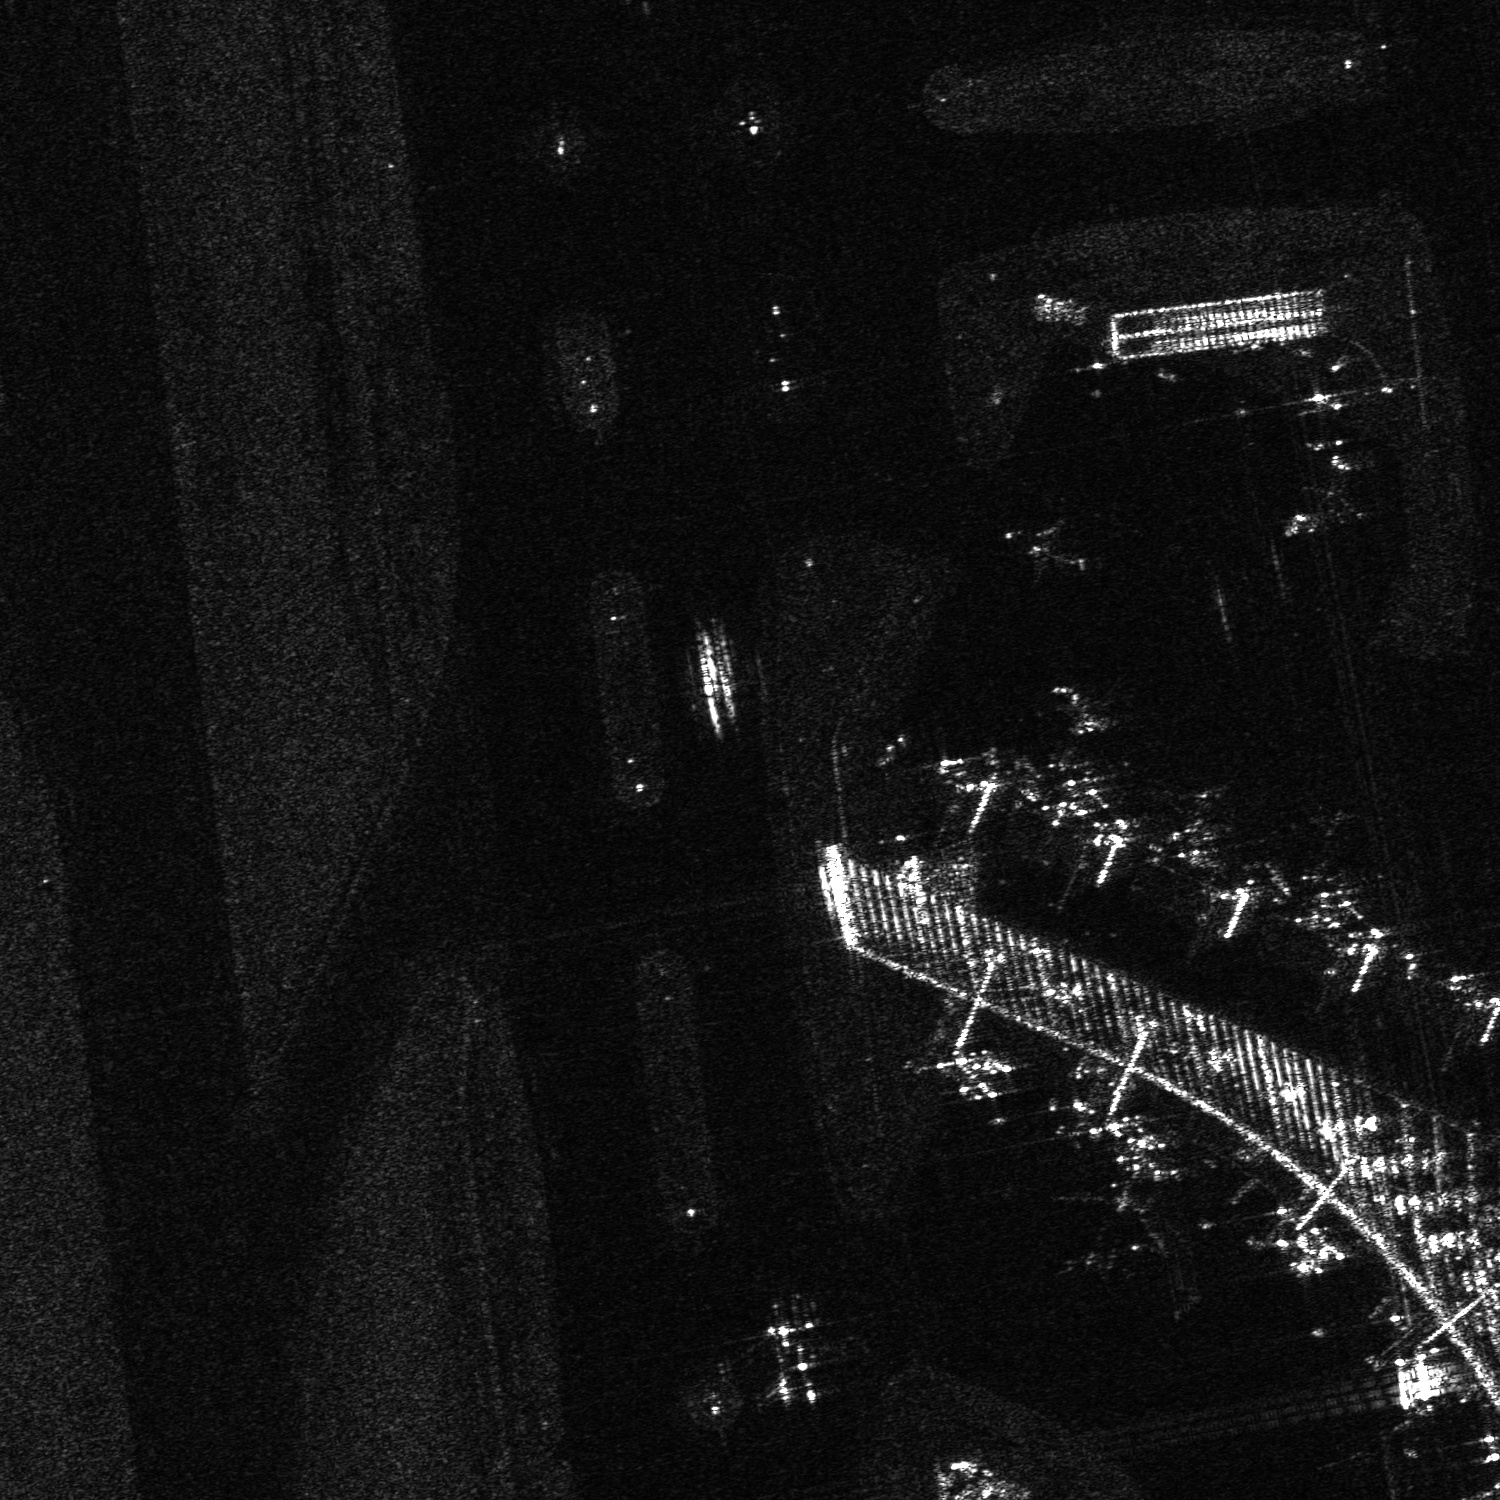Boeing787: (1054, 1181, 1172, 1272), (1273, 464, 1370, 543), (1033, 766, 1111, 812)
other: (736, 1298, 841, 1407), (999, 515, 1091, 587)
